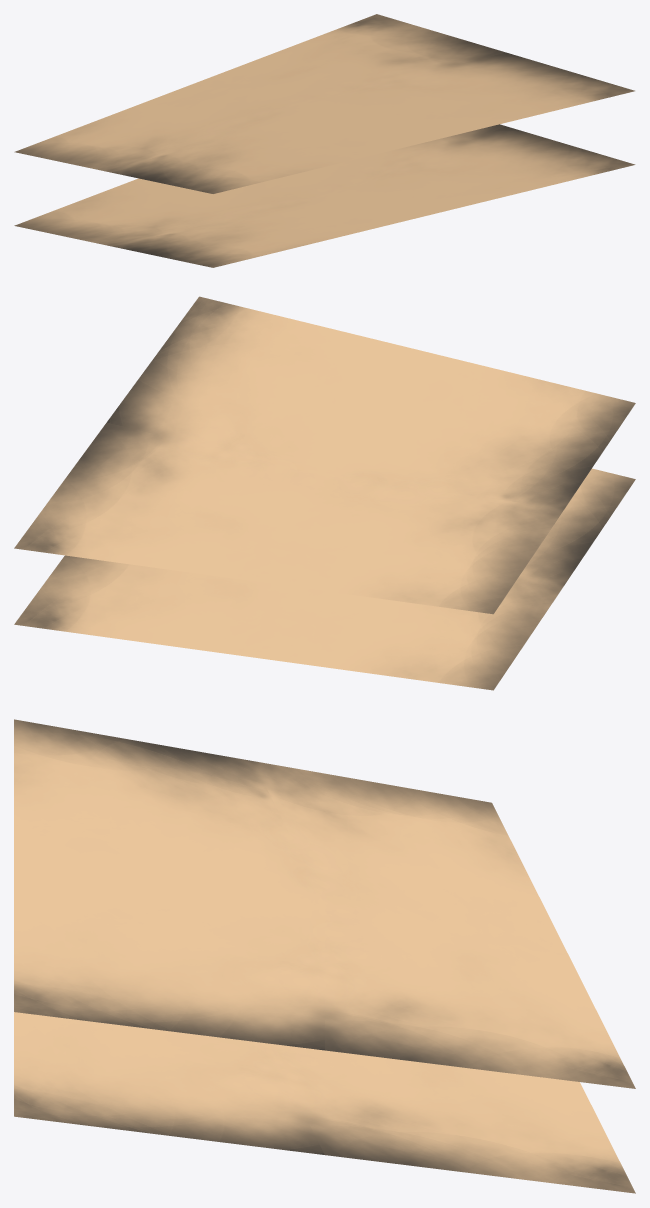
The model's file is CourseSummer_CurveFloor_4_5.fbx.
3 renders of one model, top to bottom at view 1: azimuth 30°, elevation 25°; view 2: azimuth 150°, elevation 25°; view 3: azimuth 270°, elevation 25°, orthographic. The views are drawn at different scales.
Parts seen in each view (by area): view 1: polySurface189, polySurface197; view 2: polySurface189, polySurface197; view 3: polySurface189, polySurface197.
Part boxes in pixels (bbox=[...]): polySurface189: bbox=[14, 14, 634, 193]; polySurface197: bbox=[14, 124, 635, 267]; polySurface189: bbox=[14, 296, 635, 614]; polySurface197: bbox=[14, 468, 635, 690]; polySurface189: bbox=[14, 719, 635, 1088]; polySurface197: bbox=[14, 1012, 635, 1193].
Size of the model in its own units: 6.44 by 2 by 5.39.
1 material, 1 textured.
